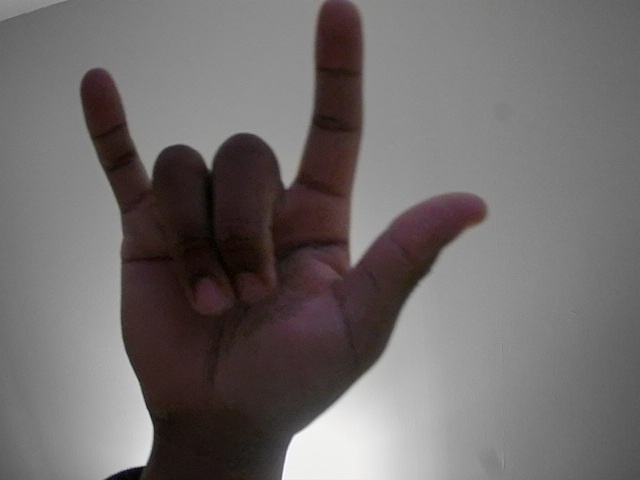ILoveYou: (59, 1, 506, 475)
